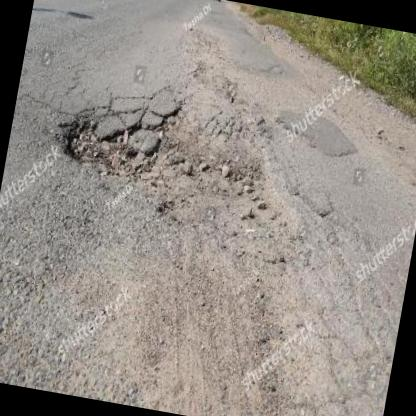pothole: (51, 80, 180, 186)
